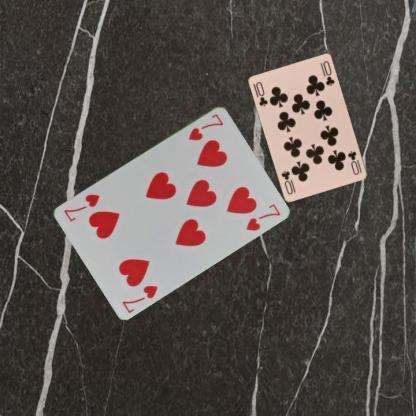10c: (254, 79, 270, 108), (346, 148, 360, 176)
7h: (119, 282, 160, 314), (186, 110, 225, 141)
